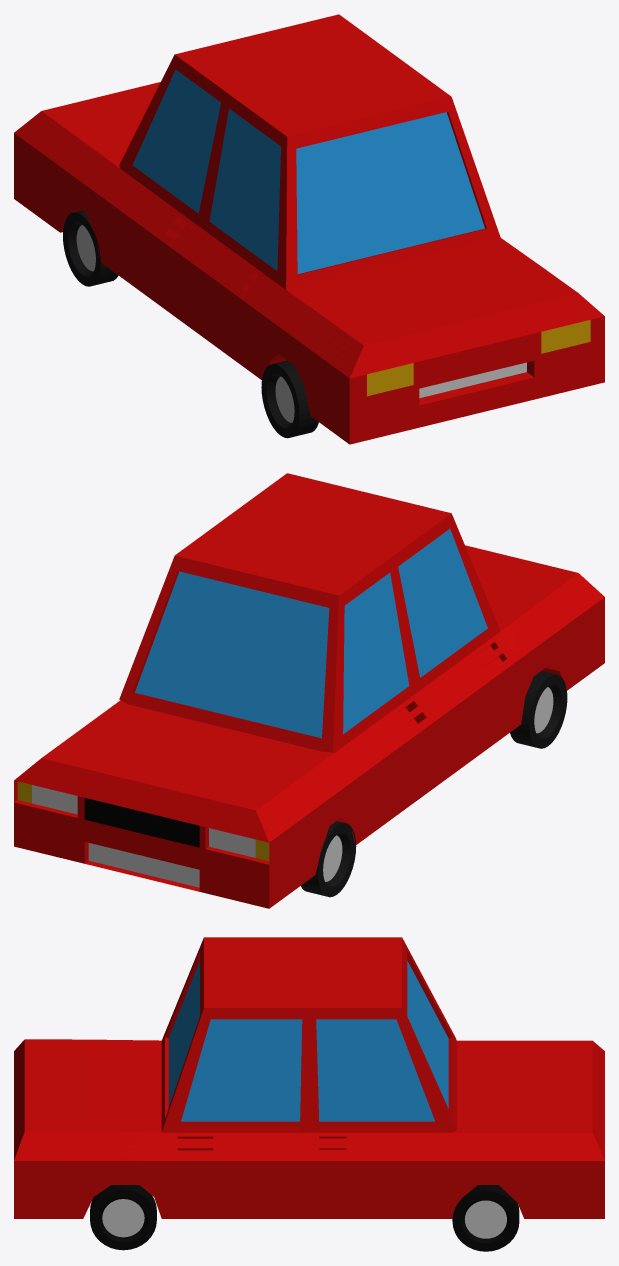
The model's file is car.dae.
3 renders of one model, top to bottom at view 1: azimuth 30°, elevation 25°; view 2: azimuth 150°, elevation 25°; view 3: azimuth 270°, elevation 25°, orthographic. The views are drawn at different scales.
Parts seen in each view (by area): view 1: body, back_left_wheel, front_left_wheel; view 2: body, back_left_wheel, front_left_wheel; view 3: body, back_right_wheel, front_right_wheel.
Part boxes in pixels (x1,y1,x2,y2): body: (14,14,604,444); back_left_wheel: (261,360,318,438); front_left_wheel: (63,210,118,286); body: (14,473,604,908); back_left_wheel: (510,671,567,748); front_left_wheel: (301,821,356,897); body: (14,937,604,1218); back_right_wheel: (90,1185,156,1250); front_right_wheel: (452,1185,519,1251).
Size of the model in its own units: 2.08 by 1.9 by 4.56.
